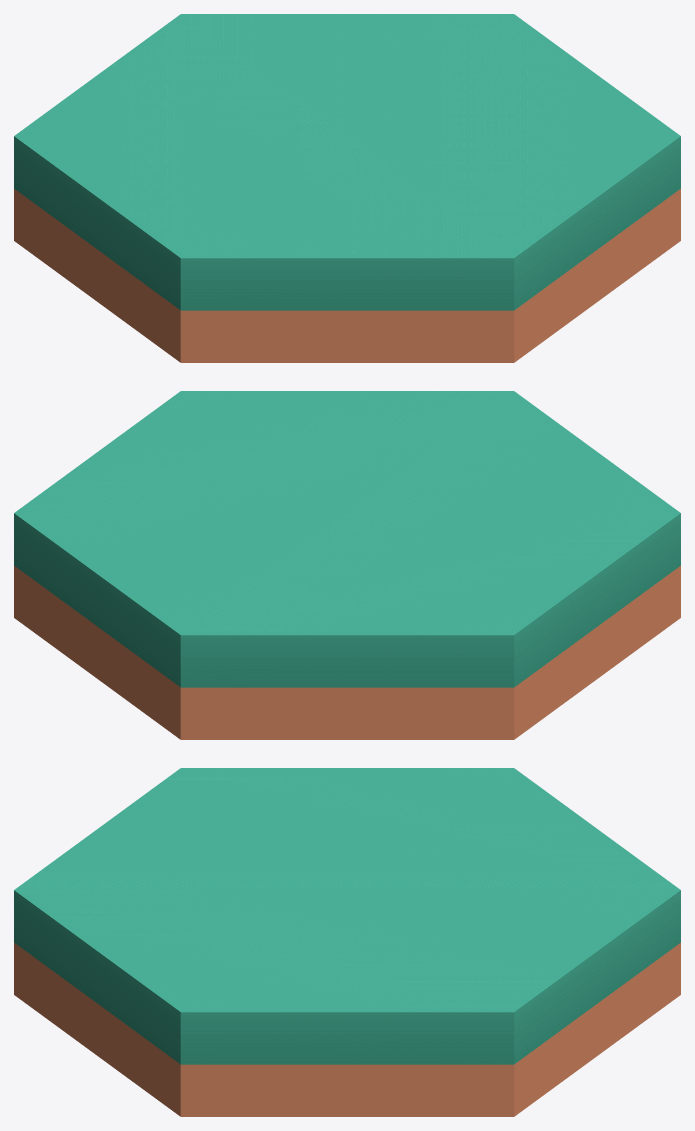
File: grass.glb
3 renders of one model, top to bottom at view 1: azimuth 30°, elevation 25°; view 2: azimuth 150°, elevation 25°; view 3: azimuth 270°, elevation 25°, orthographic.
Visible parts, largest first — view 1: grass; view 2: grass; view 3: grass.
Boxes of the visible parts, x1,y1,x2,y2 form: grass: (14, 14, 680, 362); grass: (14, 391, 680, 739); grass: (14, 768, 680, 1116).
Size of the model in its own units: 1 by 0.2 by 1.15.
1 material, 1 textured.
